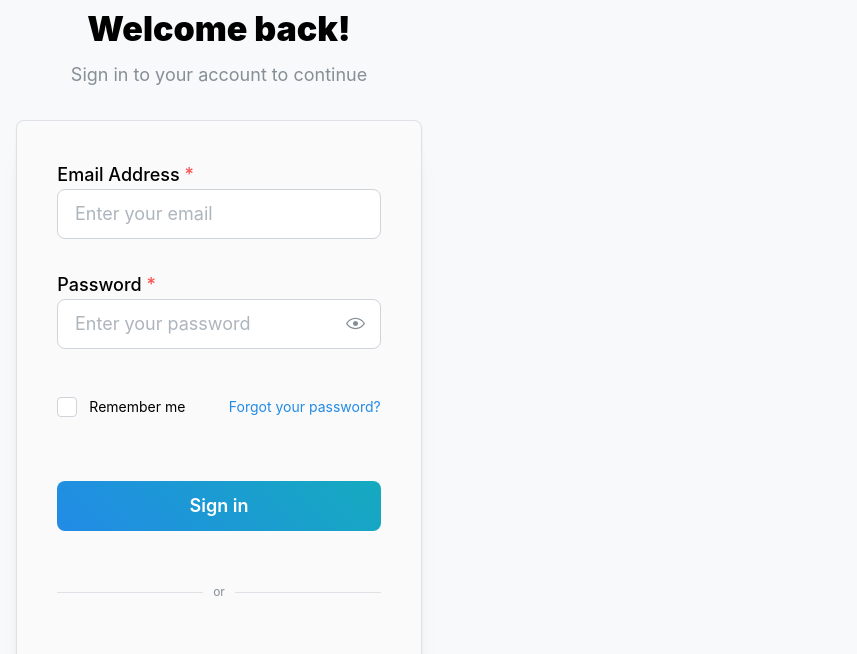
it: Login Form with Fixtures › should test form persistence with remember me
This screenshot has width=857, height=654.
In the field with placeholder "Enter your email": (219, 214) x1=57 y1=189 x2=380 y2=239, type "user@example.com"
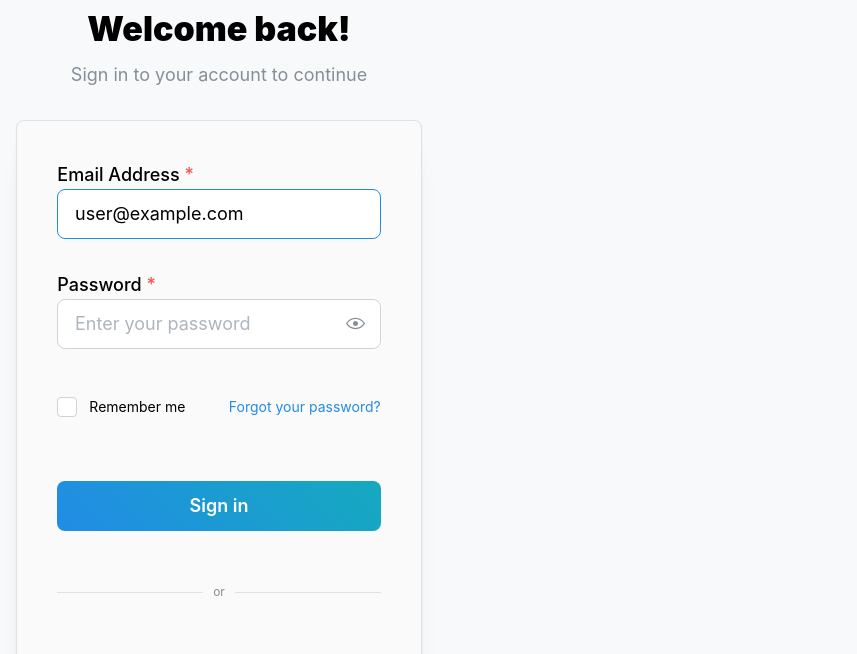
In the password field with placeholder "Enter your password": (219, 324) x1=58 y1=300 x2=379 y2=348, type "password123"
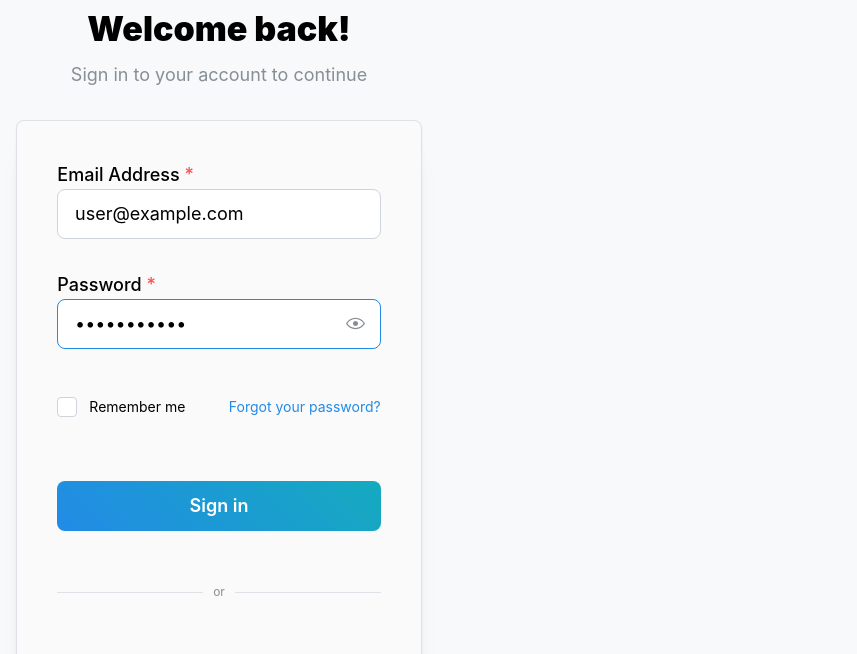
// Check remember me
Check the checkbox labelled "Remember me": (67, 407) x1=57 y1=397 x2=77 y2=417
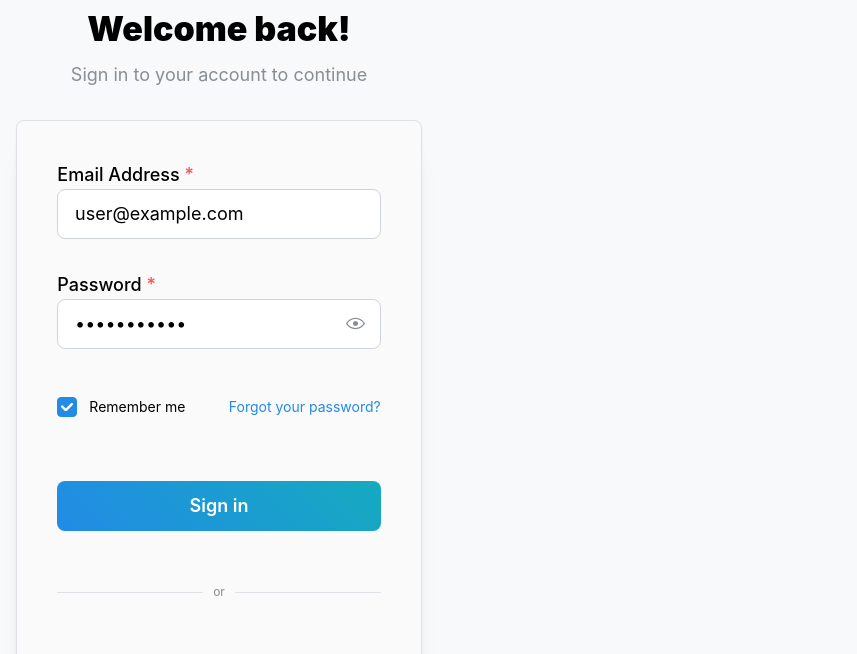
expect the checkbox labelled "Remember me" is checked: met, box x1=57 y1=397 x2=77 y2=417
Click the submit button: (219, 506) x1=57 y1=481 x2=380 y2=531
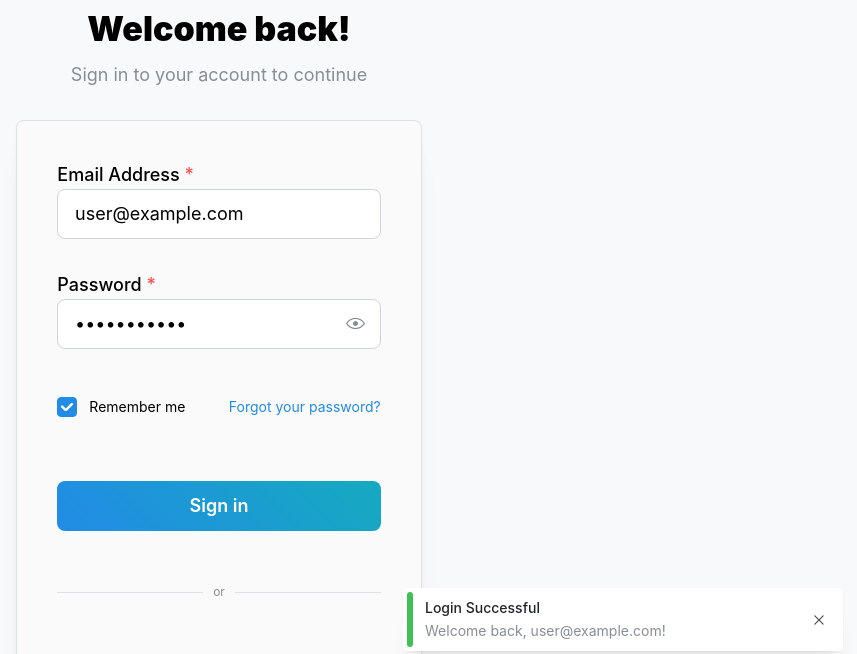
expect the text "Login Successful" is shown: met, box x1=425 y1=599 x2=540 y2=616
